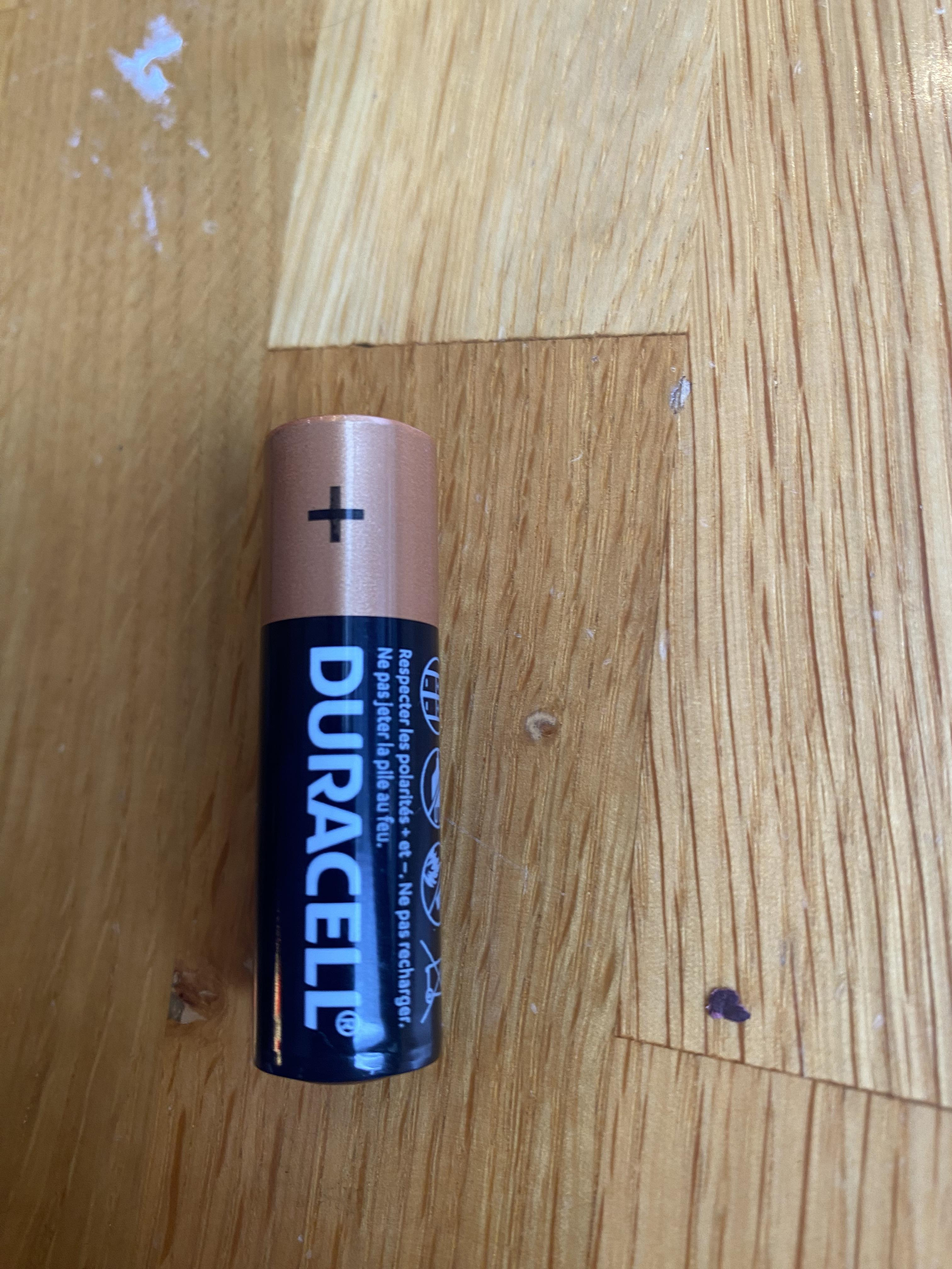AA: (252, 412, 444, 1083)
